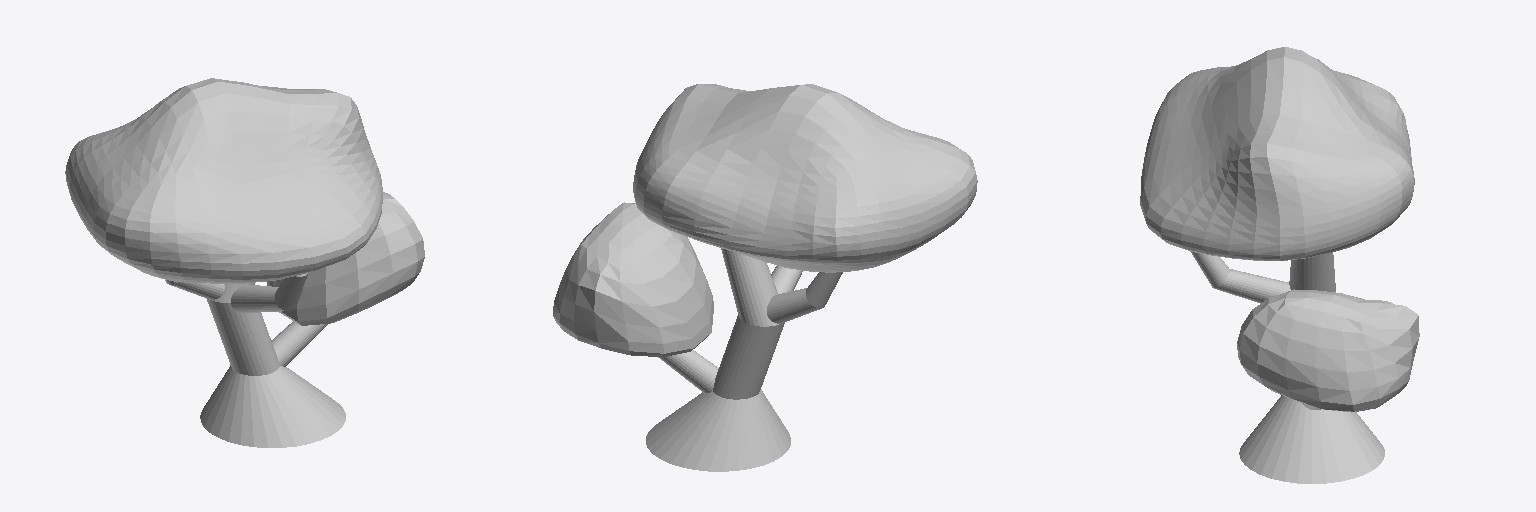
File: tree4.obj
3 renders of one model, left to right at view 1: azimuth 30°, elevation 25°; view 2: azimuth 150°, elevation 25°; view 3: azimuth 270°, elevation 25°, orthographic.
Visible parts, largest first — view 1: tree4; view 2: tree4; view 3: tree4.
Boxes of the visible parts, box(x1,y1,x2,y2) form: tree4: box(65, 78, 424, 447); tree4: box(553, 84, 977, 471); tree4: box(1140, 47, 1419, 483).
Size of the model in its own units: 5.24 by 5.18 by 3.61.